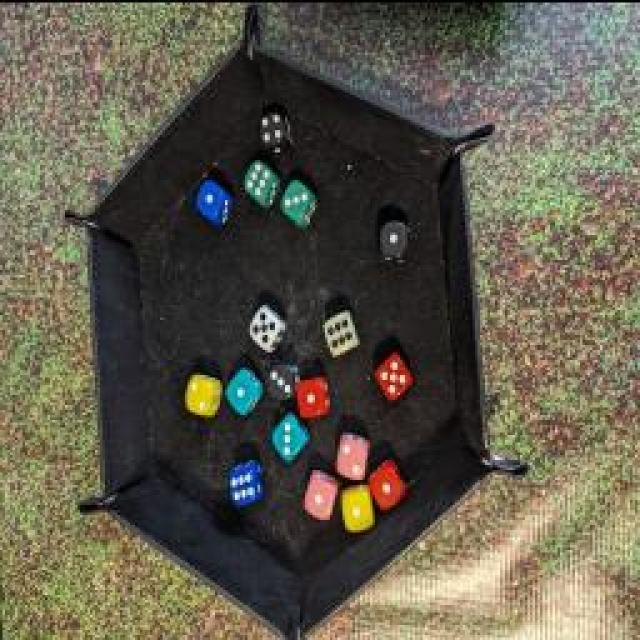dice_1: (224, 359, 266, 419), (364, 451, 406, 511), (334, 476, 374, 536), (301, 468, 341, 522), (290, 371, 330, 421), (196, 178, 232, 228), (376, 216, 412, 266)
dice_2: (182, 365, 226, 420), (336, 425, 372, 485)
dice_3: (260, 355, 305, 405), (281, 175, 319, 230), (271, 412, 311, 462)
dice_4: (255, 105, 290, 150)
dice_5: (370, 348, 415, 402), (246, 302, 286, 352)
dice_6: (240, 156, 282, 212), (228, 452, 268, 510), (322, 309, 362, 361)
